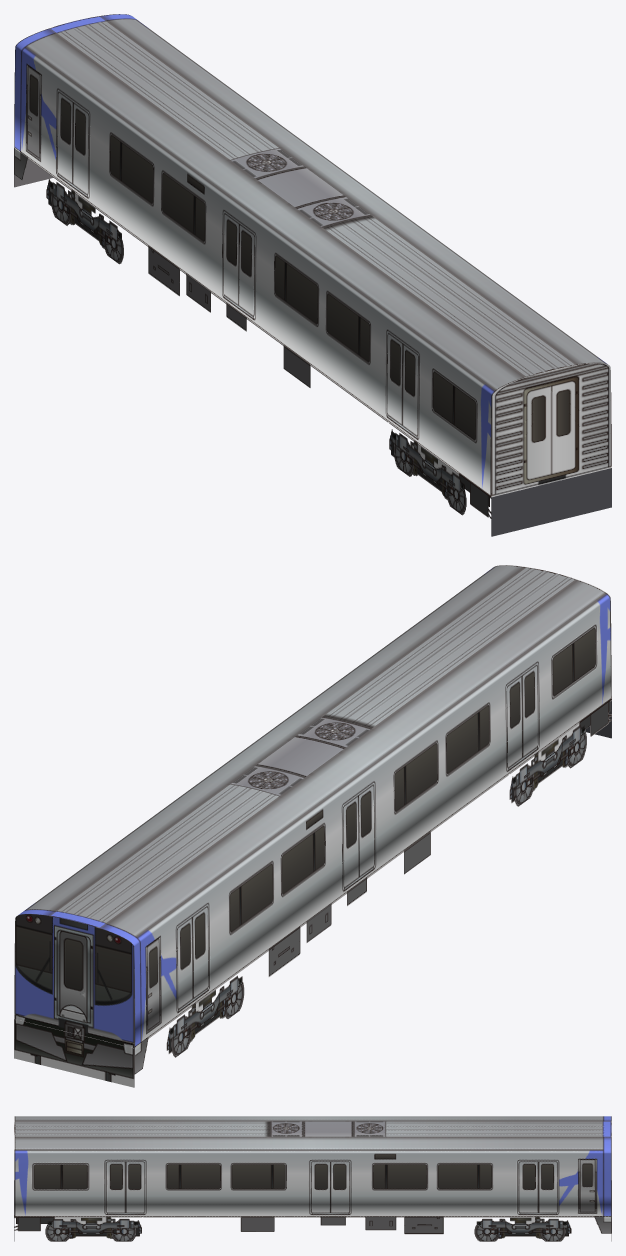
Rendered from car2.glb.
3 views of the same model, one above another, from view 1: azimuth 30°, elevation 25°; view 2: azimuth 150°, elevation 25°; view 3: azimuth 270°, elevation 25° (orthographic). The views are drawn at different scales.
Parts seen in each view (by area): view 1: abukyu-ab900-car2; view 2: abukyu-ab900-car2; view 3: abukyu-ab900-car2.
Part boxes in pixels (x1,y1,x2,y2): abukyu-ab900-car2: (14,14,611,536); abukyu-ab900-car2: (14,565,611,1087); abukyu-ab900-car2: (14,1116,611,1241).
Size of the model in its own units: 2.95 by 3.55 by 20.26.
8 materials, 7 textured.
